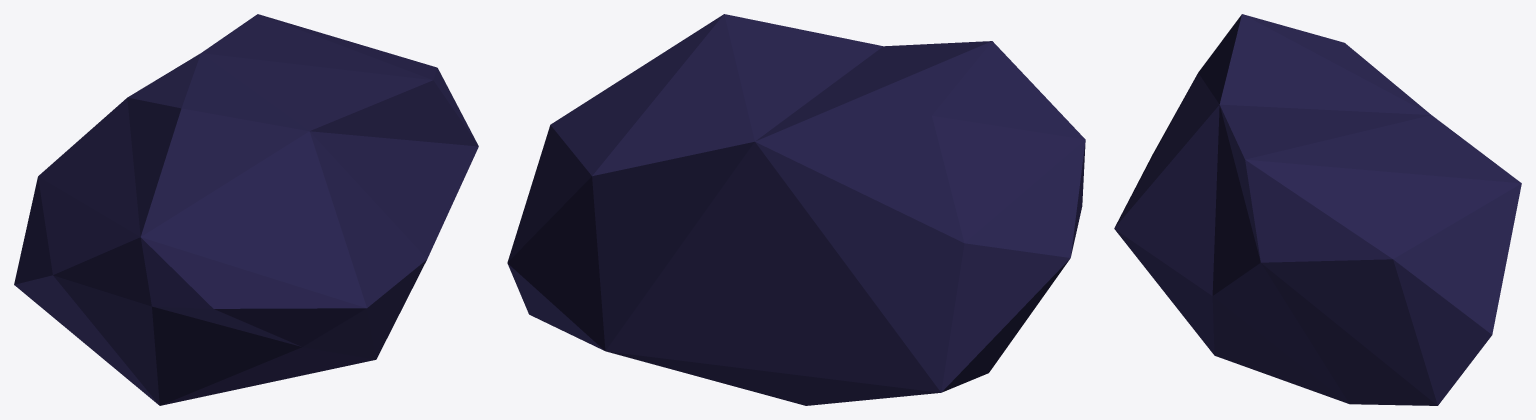
File: ITMI_NUGGET_01.OBJ
3 views of the same model, side by side, from view 1: azimuth 30°, elevation 25°; view 2: azimuth 150°, elevation 25°; view 3: azimuth 270°, elevation 25° (orthographic). The views are drawn at different scales.
Visible parts, largest first — view 1: ITMI_NUGGET_01; view 2: ITMI_NUGGET_01; view 3: ITMI_NUGGET_01.
Boxes of the visible parts, x1,y1,x2,y2 form: ITMI_NUGGET_01: (14, 14, 478, 405); ITMI_NUGGET_01: (507, 14, 1085, 405); ITMI_NUGGET_01: (1114, 14, 1521, 405).
Size of the model in its own units: 0.1324 by 0.0876 by 0.1157.
